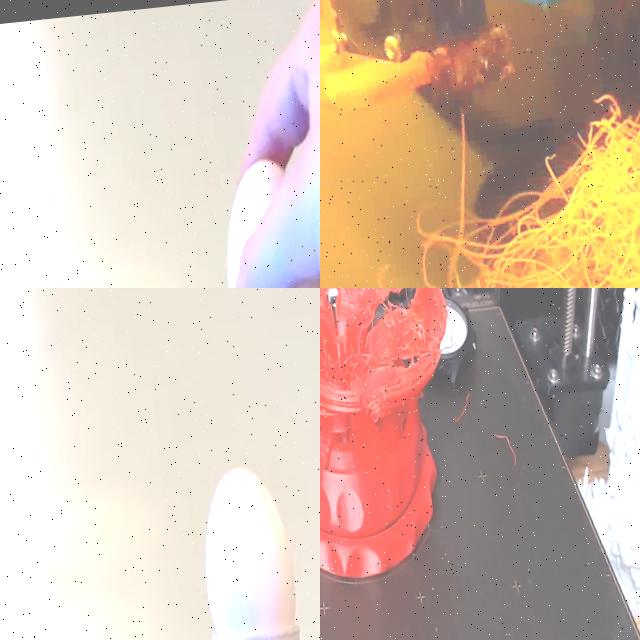spaghetti: (428, 98, 640, 288), (320, 288, 428, 396), (493, 432, 521, 469), (454, 391, 473, 423)
